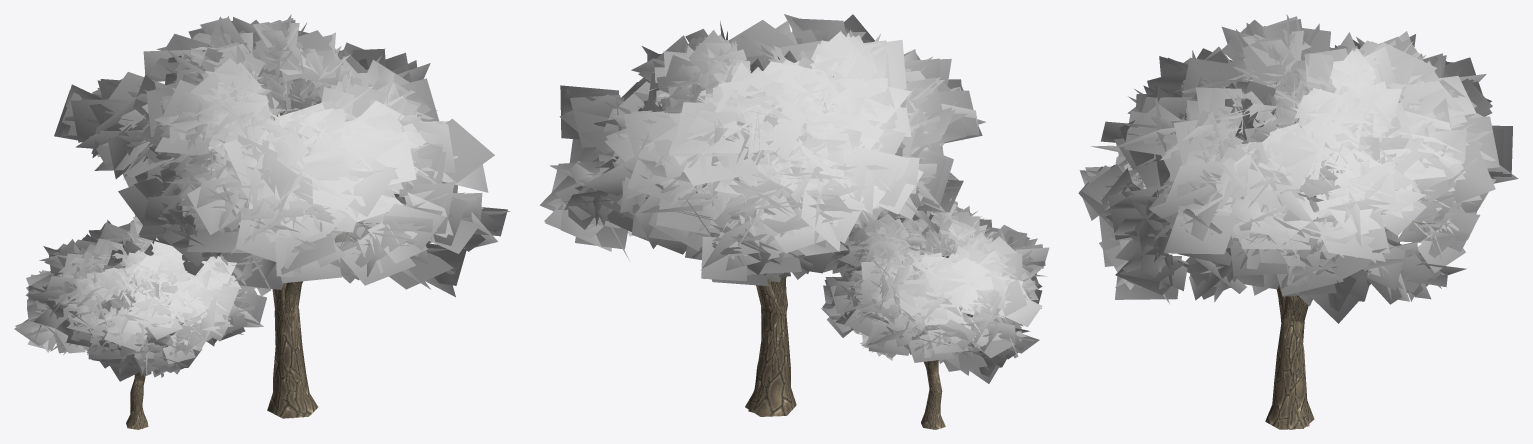
The model's file is Curved Jungle A2.fbx.
The picture shows the model from 3 angles, left to right: view 1: azimuth 30°, elevation 25°; view 2: azimuth 150°, elevation 25°; view 3: azimuth 270°, elevation 25°; orthographic projection. The views are drawn at different scales.
Visible parts, largest first — view 1: tree.213, tree.212; view 2: tree.213, tree.212; view 3: tree.213.
Part boxes in pixels (<box>): tree.213: <box>54,14,510,418</box>; tree.212: <box>14,214,266,429</box>; tree.213: <box>539,14,985,416</box>; tree.212: <box>821,198,1049,429</box>; tree.213: <box>1078,14,1518,429</box>.
Bounding box in the file's own units: 5567 × 4572 × 4859.
